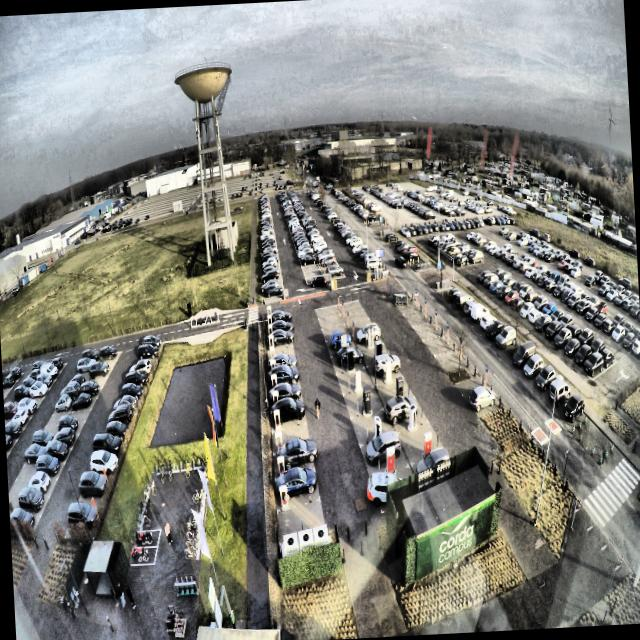cabinet: (283, 525, 329, 552)
car: (276, 466, 317, 504), (276, 438, 321, 468), (271, 397, 306, 427), (268, 383, 302, 406), (268, 364, 300, 386), (267, 328, 296, 346), (268, 353, 298, 370), (269, 318, 296, 334), (270, 309, 292, 325)
parking: (277, 499, 326, 543), (276, 471, 320, 510), (274, 446, 314, 478), (272, 422, 311, 454), (270, 403, 307, 432), (268, 367, 300, 393), (270, 387, 303, 409), (268, 356, 297, 373), (267, 346, 295, 362), (267, 335, 293, 351), (265, 315, 291, 331), (266, 325, 292, 340)
supercharger: (279, 486, 289, 509), (277, 456, 286, 476), (273, 410, 281, 431), (275, 432, 283, 450), (272, 391, 278, 405), (271, 374, 277, 388), (270, 360, 276, 372), (266, 306, 272, 317), (268, 336, 274, 346), (270, 348, 275, 359), (267, 315, 273, 323), (268, 325, 273, 334)
